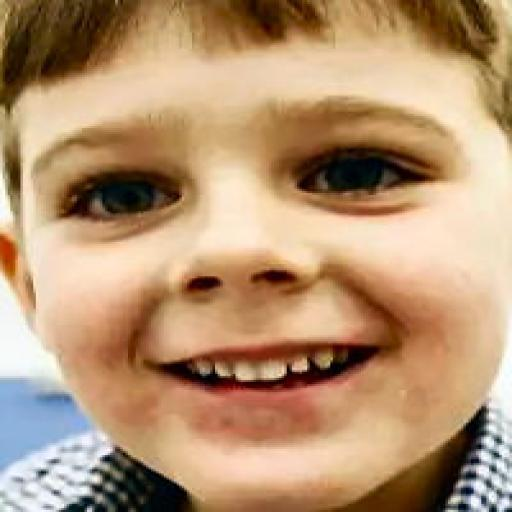Autism: (7, 5, 512, 511)
